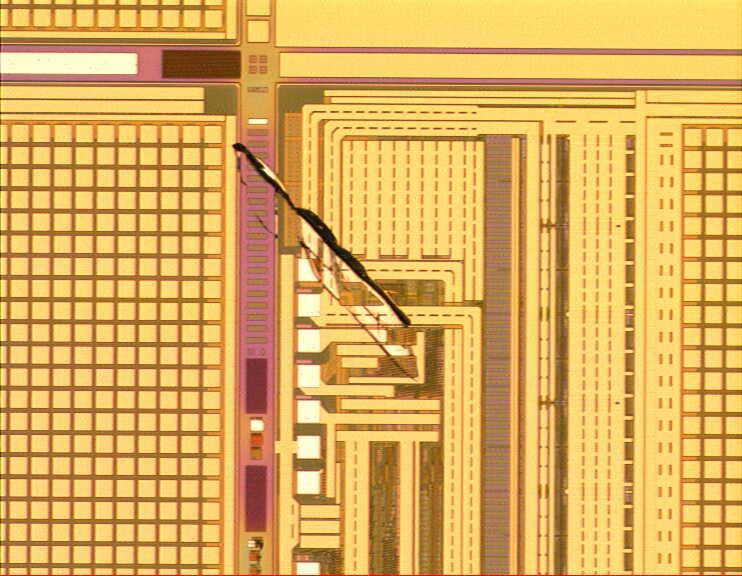SCRATCH: (231, 139, 425, 387)
